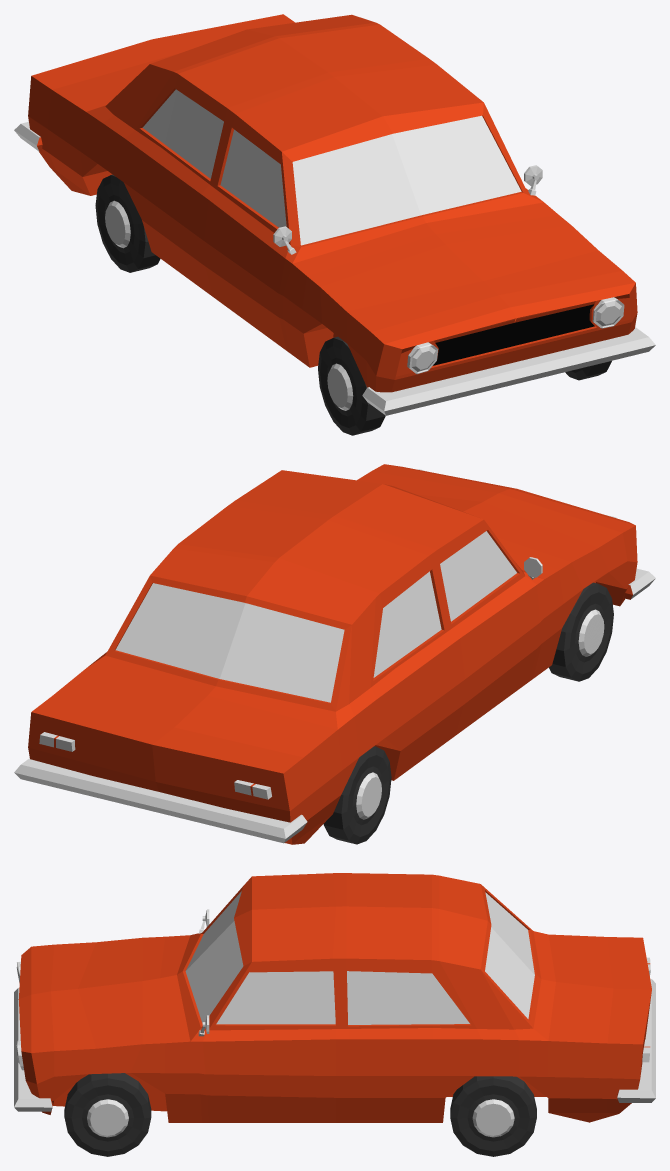
The picture shows the model from 3 angles, top to bottom: view 1: azimuth 30°, elevation 25°; view 2: azimuth 150°, elevation 25°; view 3: azimuth 270°, elevation 25°; orthographic projection. The views are drawn at different scales.
Visible parts, largest first — view 1: Cube, Cylinder; view 2: Cube, Cylinder; view 3: Cube, Cylinder.
Boxes of the visible parts, left/top/right/bottom form: Cube: left=14, top=14, right=655, bottom=415; Cylinder: left=95, top=174, right=611, bottom=435; Cube: left=14, top=464, right=655, bottom=844; Cylinder: left=323, top=582, right=613, bottom=844; Cube: left=14, top=873, right=655, bottom=1122; Cylinder: left=64, top=1073, right=536, bottom=1156.
Size of the model in its own units: 312 by 251 by 736.
